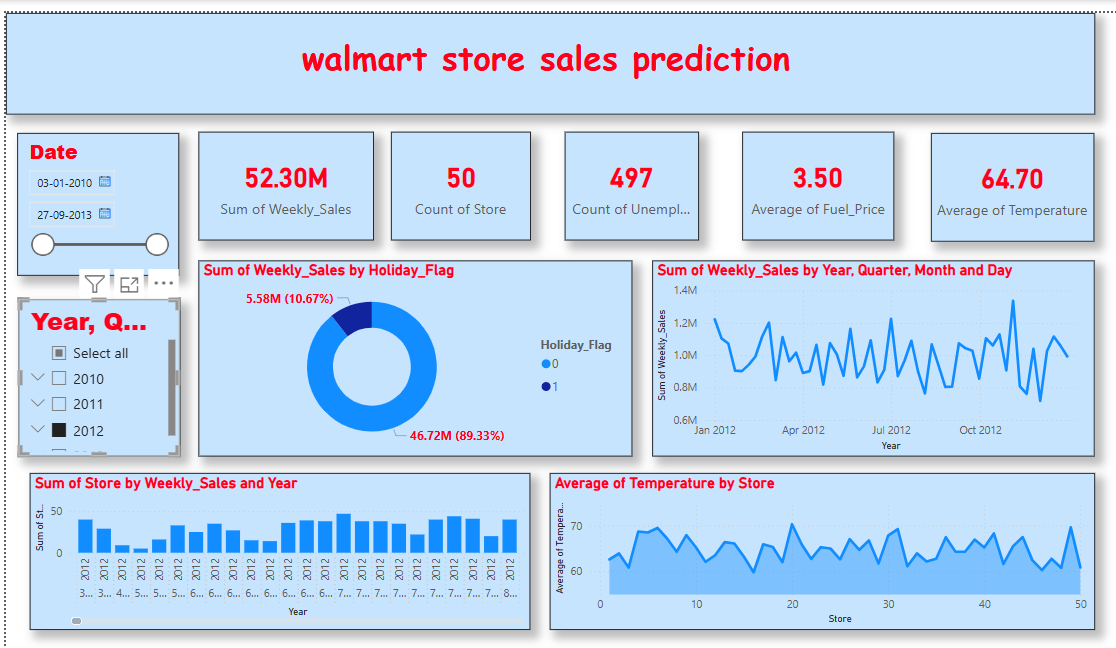

The dashboard page shown, as its layout file describes it:
{"tool":"powerbi","page":{"name":"Page 1","canvas":[1280,720],"ordinal":0},"visuals":[{"type":"textbox","box":[0,0,1227.1,114.3],"z":0},{"type":"card","fields":{"Values":["Sum(walmart_data.Weekly_Sales)"]},"box":[216.8,134.5,197.6,122.1],"z":1000},{"type":"card","fields":{"Values":["Count(walmart_data.Store)"]},"box":[433.6,134.5,157.8,122.1],"z":2000},{"type":"card","fields":{"Values":["Count(walmart_data.Unemployment)"]},"box":[629.8,134.5,150.9,122.1],"z":3000},{"type":"slicer","fields":{"Values":["walmart_data.Date"]},"box":[12.3,135.8,182.5,160.5],"z":4000},{"type":"card","fields":{"Values":["Avg(walmart_data.Fuel_Price)"]},"box":[830.2,134.5,171.5,122.1],"z":5000},{"type":"card","fields":{"Values":["Avg(walmart_data.Temperature)"]},"box":[1042.9,135.8,183.9,122.1],"z":6000},{"type":"slicer","fields":{"Values":["walmart_data.Date.Variation.Date Hierarchy.Year","walmart_data.Date.Variation.Date Hierarchy.Quarter","walmart_data.Date.Variation.Date Hierarchy.Month","walmart_data.Date.Variation.Date Hierarchy.Day"]},"box":[13.7,322.5,182.5,177],"z":7000},{"type":"donutChart","fields":{"Category":["walmart_data.Holiday_Flag"],"Y":["Sum(walmart_data.Weekly_Sales)"]},"box":[216.8,278.6,488.5,220.9],"z":8000},{"type":"lineChart","fields":{"Y":["Sum(walmart_data.Weekly_Sales)"],"Category":["walmart_data.Date.Variation.Date Hierarchy.Year","walmart_data.Date.Variation.Date Hierarchy.Quarter","walmart_data.Date.Variation.Date Hierarchy.Month","walmart_data.Date.Variation.Date Hierarchy.Day"]},"box":[728.6,278.6,498.1,220.9],"z":9000},{"type":"clusteredColumnChart","fields":{"Category":["walmart_data.Weekly_Sales","walmart_data.Date.Variation.Date Hierarchy.Year"],"Y":["Sum(walmart_data.Store)"]},"box":[27.4,518.7,564,177],"z":10000},{"type":"stackedAreaChart","fields":{"Category":["walmart_data.Store"],"Y":["Avg(walmart_data.Temperature)"]},"box":[612.9,518.6,614.3,177.1],"z":11000}]}

Visuals, with their boxes in screenshot pixels (x1, y1, x2, y2):
textbox: 0, 9, 1094, 111
card - Sum(walmart_data.Weekly_Sales): 193, 129, 369, 237
card - Count(walmart_data.Store): 387, 129, 527, 237
card - Count(walmart_data.Unemployment): 561, 129, 696, 237
slicer - walmart_data.Date: 11, 130, 174, 273
card - Avg(walmart_data.Fuel_Price): 740, 129, 893, 237
card - Avg(walmart_data.Temperature): 930, 130, 1094, 239
slicer - walmart_data.Date.Variation.Date Hierarchy.Year x walmart_data.Date.Variation.Date Hierarchy.Quarter: 12, 296, 175, 454
donutChart - walmart_data.Holiday_Flag x Sum(walmart_data.Weekly_Sales): 193, 257, 629, 454
lineChart - Sum(walmart_data.Weekly_Sales) x walmart_data.Date.Variation.Date Hierarchy.Year: 649, 257, 1094, 454
clusteredColumnChart - walmart_data.Weekly_Sales x walmart_data.Date.Variation.Date Hierarchy.Year: 24, 471, 527, 629
stackedAreaChart - walmart_data.Store x Avg(walmart_data.Temperature): 546, 471, 1094, 629
